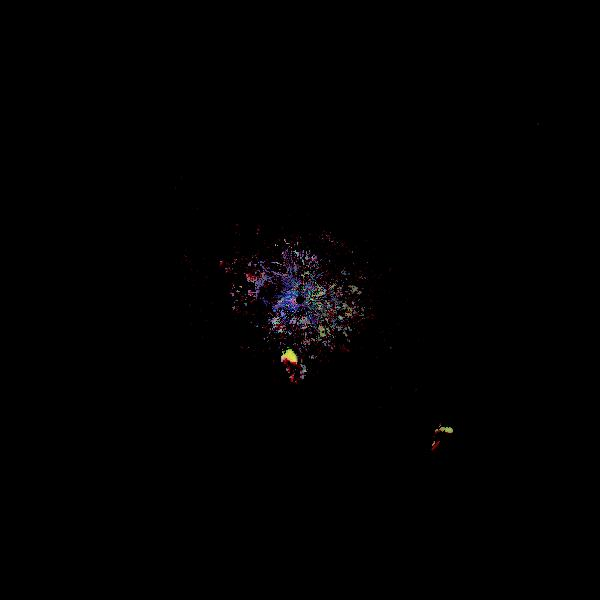roost: (273, 350, 315, 392), (425, 422, 464, 461)
